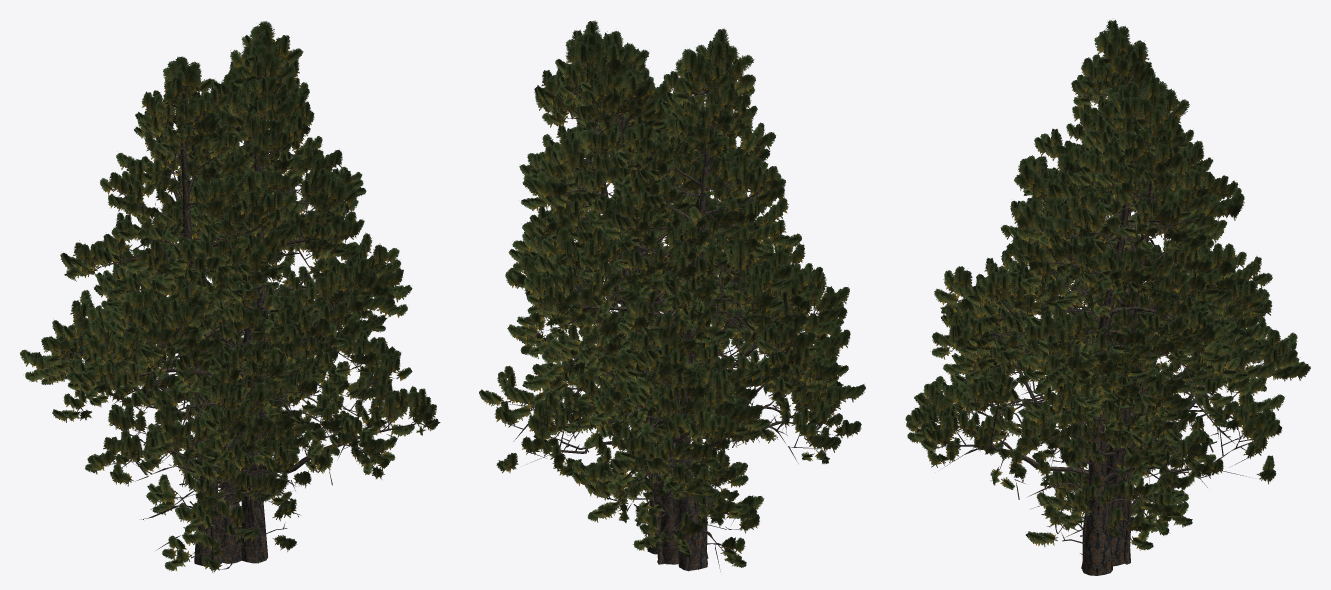
The model's file is forest.glb.
3 views of the same model, side by side, from view 1: azimuth 30°, elevation 25°; view 2: azimuth 150°, elevation 25°; view 3: azimuth 270°, elevation 25° (orthographic). The views are drawn at different scales.
Parts seen in each view (by area): view 1: hero-2-foliage, hero-3-foliage, hero-1-foliage, hero-1-branches, hero-2-branches, line-2-foliage, hero-3-branches, line-5-foliage, line-1-foliage, line-3-foliage, line-4-foliage, line-4-branches (+1 smaller); view 2: hero-2-foliage, hero-3-foliage, hero-1-foliage, hero-2-branches, hero-3-branches, line-2-foliage, hero-1-branches, line-3-foliage, line-1-foliage, line-5-foliage, line-4-foliage, line-2-branches (+1 smaller); view 3: hero-3-foliage, hero-1-foliage, hero-2-foliage, hero-1-branches, hero-3-branches, line-2-foliage, line-5-foliage, line-1-foliage, line-3-foliage, hero-2-branches, line-4-foliage, line-2-branches (+1 smaller).
Part boxes in pixels (<box>): hero-2-foliage: <box>20,56,375,489</box>; hero-3-foliage: <box>41,21,440,479</box>; hero-1-foliage: <box>66,42,407,486</box>; hero-1-branches: <box>101,95,378,563</box>; hero-2-branches: <box>53,86,359,565</box>; line-2-foliage: <box>147,416,296,558</box>; hero-3-branches: <box>55,56,429,563</box>; line-5-foliage: <box>139,288,302,461</box>; line-1-foliage: <box>162,444,281,571</box>; line-3-foliage: <box>146,358,285,572</box>; line-4-foliage: <box>148,330,288,473</box>; line-4-branches: <box>141,402,300,567</box>; hero-2-foliage: <box>524,28,865,502</box>; hero-3-foliage: <box>503,20,849,505</box>; hero-1-foliage: <box>479,31,861,498</box>; hero-2-branches: <box>538,70,850,570</box>; hero-3-branches: <box>514,65,826,564</box>; line-2-foliage: <box>585,407,764,557</box>; hero-1-branches: <box>500,66,836,554</box>; line-3-foliage: <box>598,349,759,533</box>; line-1-foliage: <box>612,457,746,567</box>; line-5-foliage: <box>568,258,754,447</box>; line-4-foliage: <box>596,329,751,488</box>; line-2-branches: <box>596,428,729,564</box>; hero-3-foliage: <box>905,74,1310,489</box>; hero-1-foliage: <box>930,82,1284,490</box>; hero-2-foliage: <box>918,20,1300,479</box>; hero-1-branches: <box>947,130,1257,575</box>; hero-3-branches: <box>918,101,1296,566</box>; line-2-foliage: <box>1026,409,1192,546</box>; line-5-foliage: <box>1031,290,1188,464</box>; line-1-foliage: <box>1048,448,1168,550</box>; line-3-foliage: <box>1040,374,1188,527</box>; hero-2-branches: <box>958,60,1285,538</box>; line-4-foliage: <box>1022,364,1194,492</box>; line-2-branches: <box>1063,431,1175,564</box>.
Size of the model in its own units: 8.29 by 12.66 by 9.18.
Materials: 2 (2 with a texture image).
